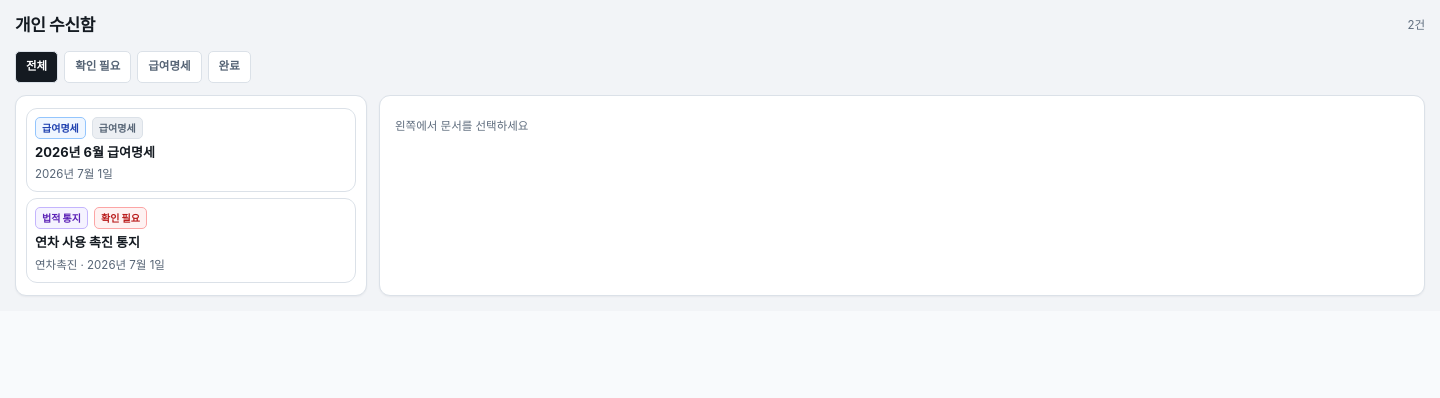
Test case: InboxBody › keeps the notice locked and shows an error when the passkey is cancelled
Click the text "연차 사용 촉진 통지": point(87, 242) [35,234,140,250]
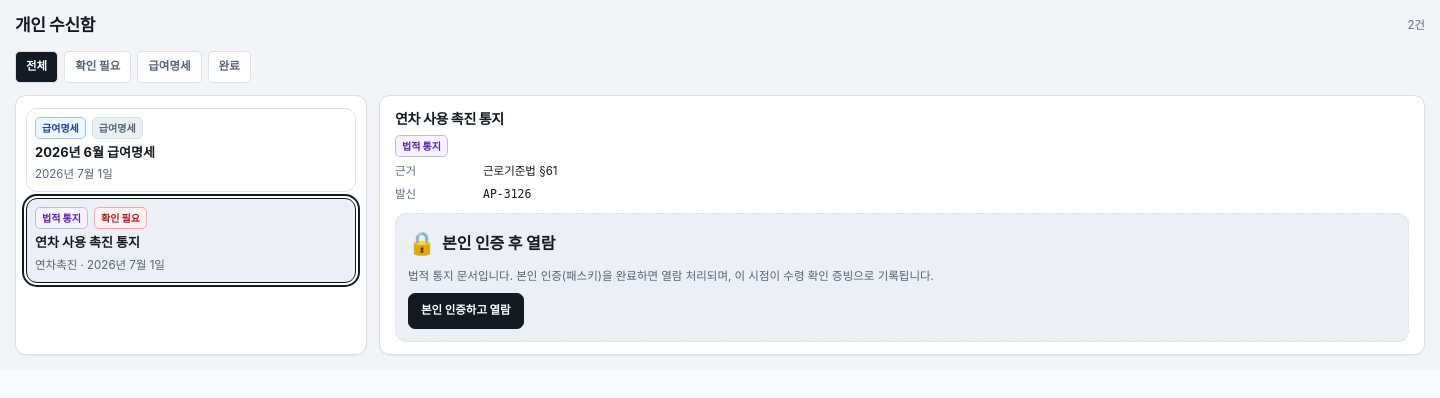
Click the button "본인 인증하고 열람": point(466, 311) [408,293,524,329]
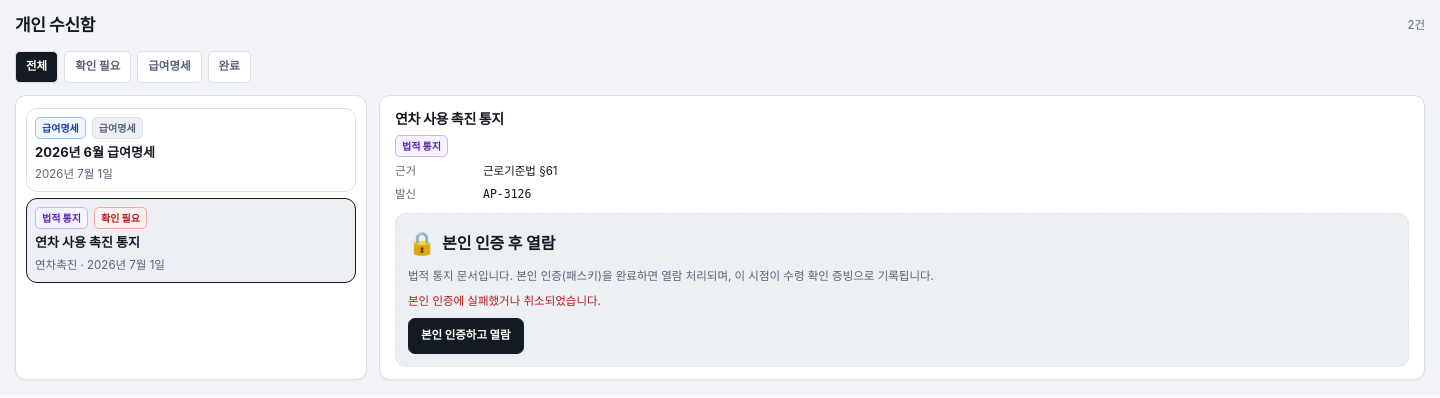
expect the button "본인 인증하고 열람" is shown: met, box [408,318,524,354]
expect the text "본인 인증에 실패했거나 취소되었습니다." is shown: met, box [408,294,601,308]
